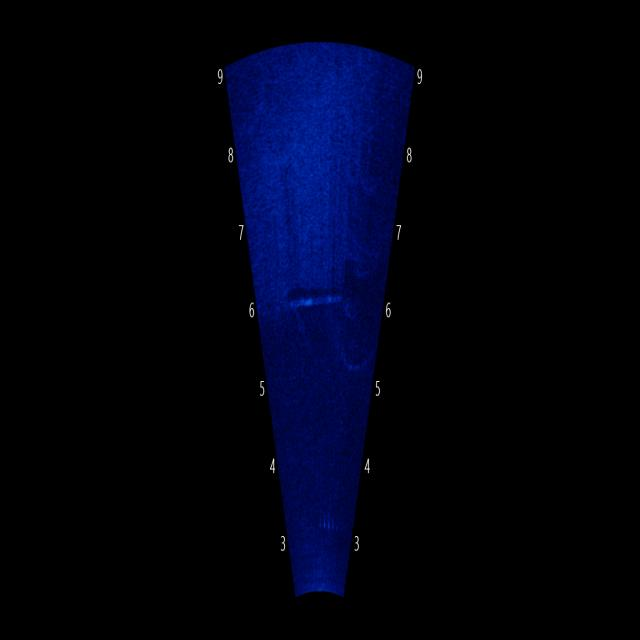triangle: (274, 249, 349, 386)
